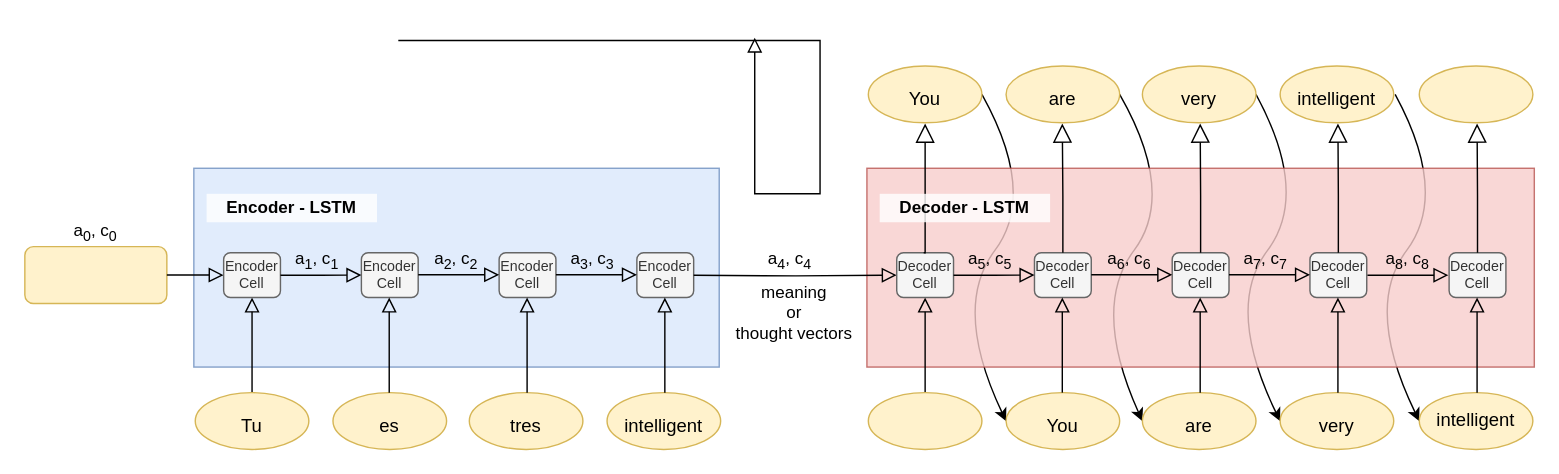
Image size: 1559x474. Some labels were removed from this diagram. The centre of each missing label's shape, as x and y in pixels:
<END>: point (1475, 94)
<START>: point (924, 420)
instantiated states: point (95, 274)
